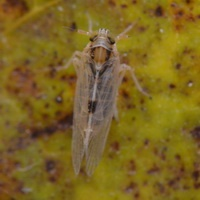insect: (71, 23, 150, 175)
